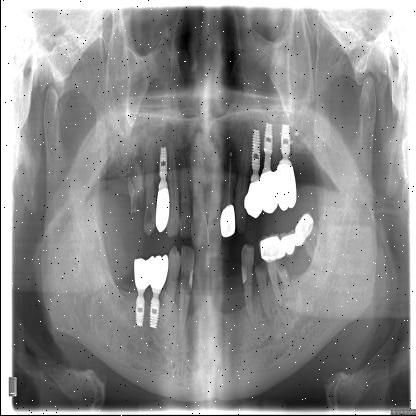Bicon: (152, 142, 174, 188), (275, 117, 295, 159), (129, 289, 147, 333), (146, 290, 162, 334), (246, 126, 262, 162), (262, 121, 274, 155)
